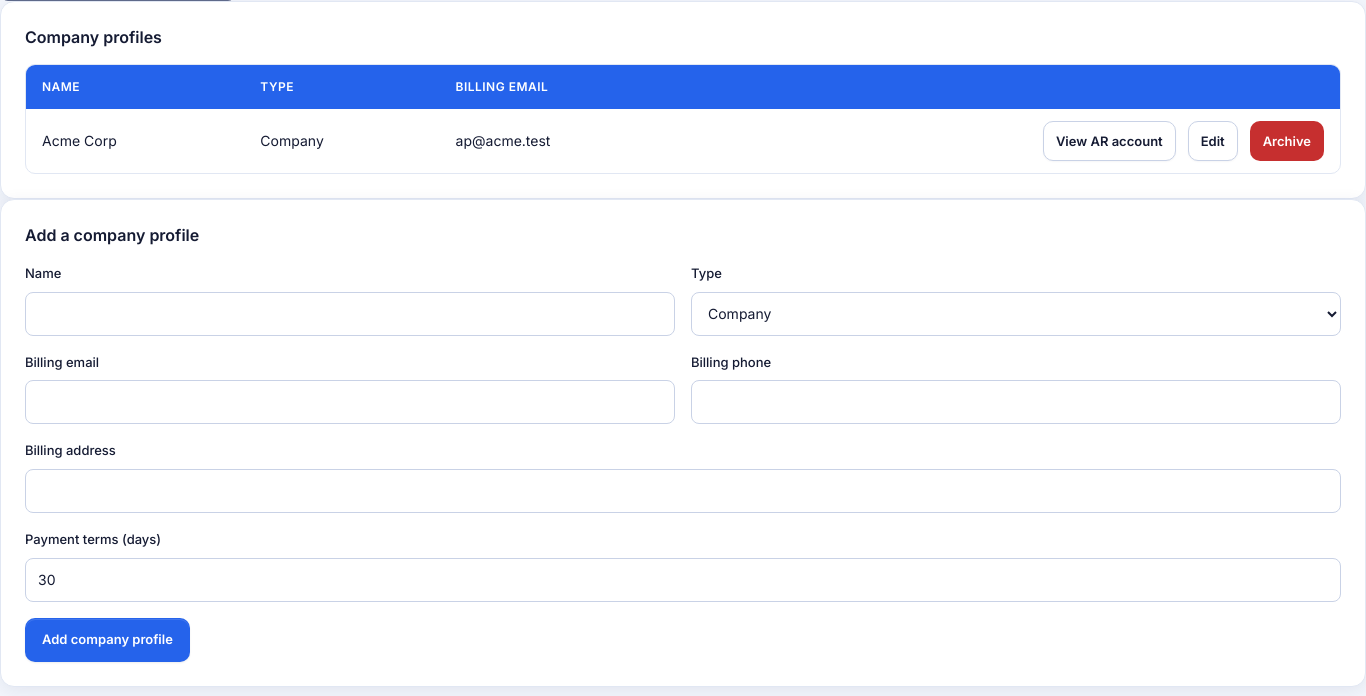
Test: <CompanyProfilesTab> › shows the AR account summary for a selected company
Check: the text "Acme Corp" is shown, box [26,109,244,173]
Click the button "View AR account" at (1109, 141), box [1043,121,1176,161]
(page scrolled)
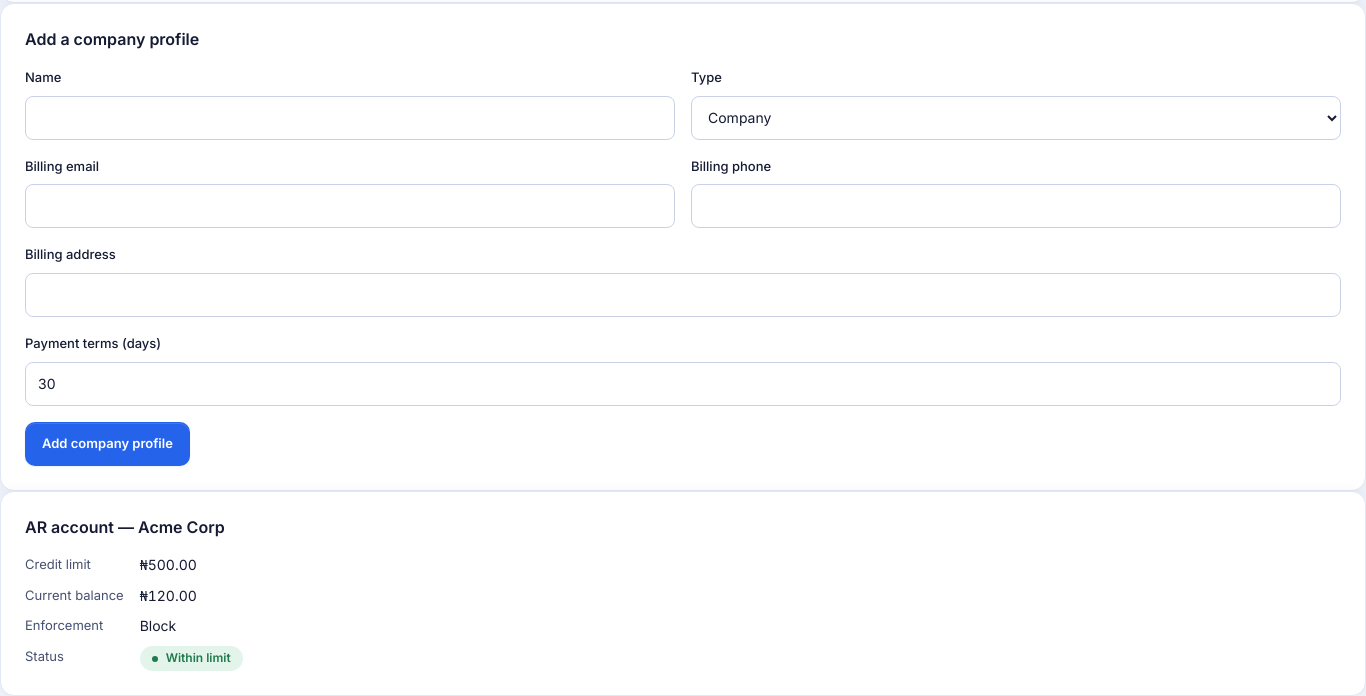
Check: the heading "AR account — Acme Corp" is shown, box [25,517,225,537]
Check: the text "Within limit" is shown, box [140,646,243,671]
